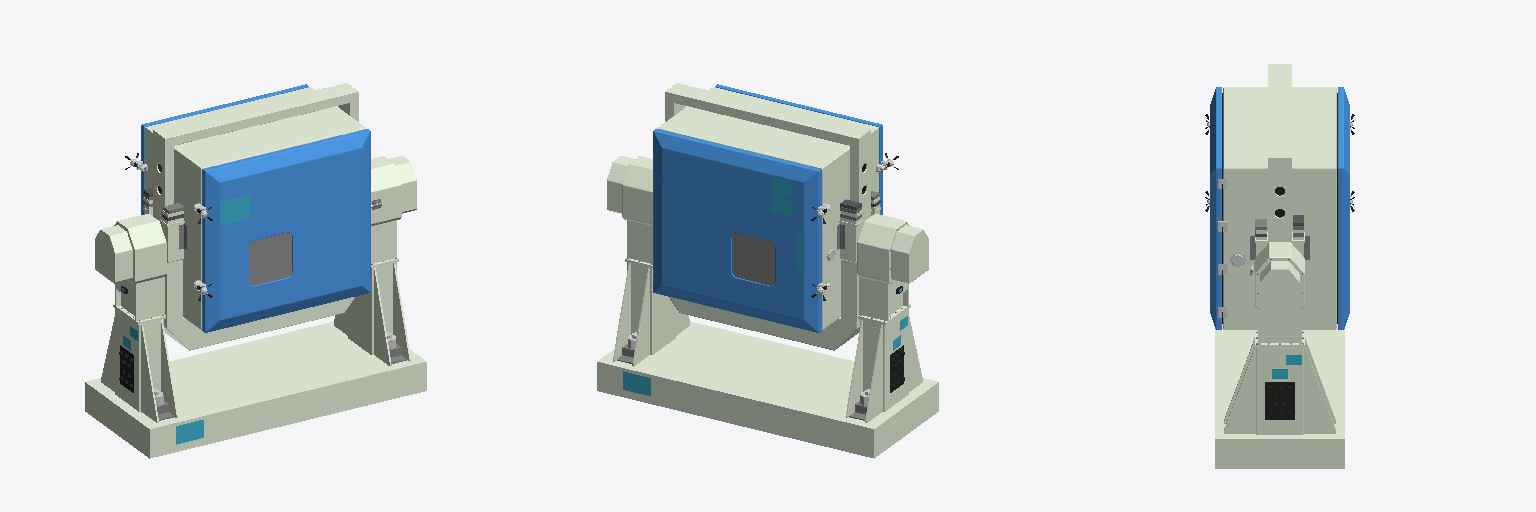
The model's file is 21KSWBSZZT.obj.
3 views of the same model, side by side, from view 1: azimuth 30°, elevation 25°; view 2: azimuth 150°, elevation 25°; view 3: azimuth 270°, elevation 25° (orthographic).
Parts seen in each view (by area): view 1: Metal_02_02, Metal_Bule, Metal_02_01, Glass, Tex_01, Tex_02, Metal_05_02; view 2: Metal_02_02, Metal_Bule, Metal_02_01, Glass, Tex_01, Tex_02, Metal_05_02; view 3: Metal_02_01, Metal_02_02, Metal_Bule, Metal_05_02, Metal_05_01, Metal_01_01.
Part boxes in pixels (left/top/right/bottom): Metal_02_02: left=85, top=156, right=426, bottom=458; Metal_Bule: left=141, top=84, right=370, bottom=332; Metal_02_01: left=143, top=83, right=366, bottom=350; Glass: left=249, top=233, right=291, bottom=285; Tex_01: left=220, top=194, right=250, bottom=224; Tex_02: left=122, top=288, right=203, bottom=444; Metal_05_02: left=119, top=286, right=133, bottom=392; Metal_02_02: left=597, top=156, right=938, bottom=458; Metal_Bule: left=653, top=84, right=882, bottom=332; Metal_02_01: left=657, top=83, right=880, bottom=350; Glass: left=732, top=233, right=774, bottom=285; Tex_01: left=771, top=177, right=802, bottom=269; Tex_02: left=623, top=288, right=907, bottom=395; Metal_05_02: left=890, top=286, right=904, bottom=392; Metal_02_01: left=1223, top=64, right=1336, bottom=329; Metal_02_02: left=1215, top=242, right=1344, bottom=468; Metal_Bule: left=1210, top=87, right=1349, bottom=329; Metal_05_02: left=1265, top=382, right=1294, bottom=419; Metal_05_01: left=1205, top=93, right=1354, bottom=323; Metal_01_01: left=1207, top=121, right=1352, bottom=317.
Size of the model in its own units: 215 by 198 by 92.15.